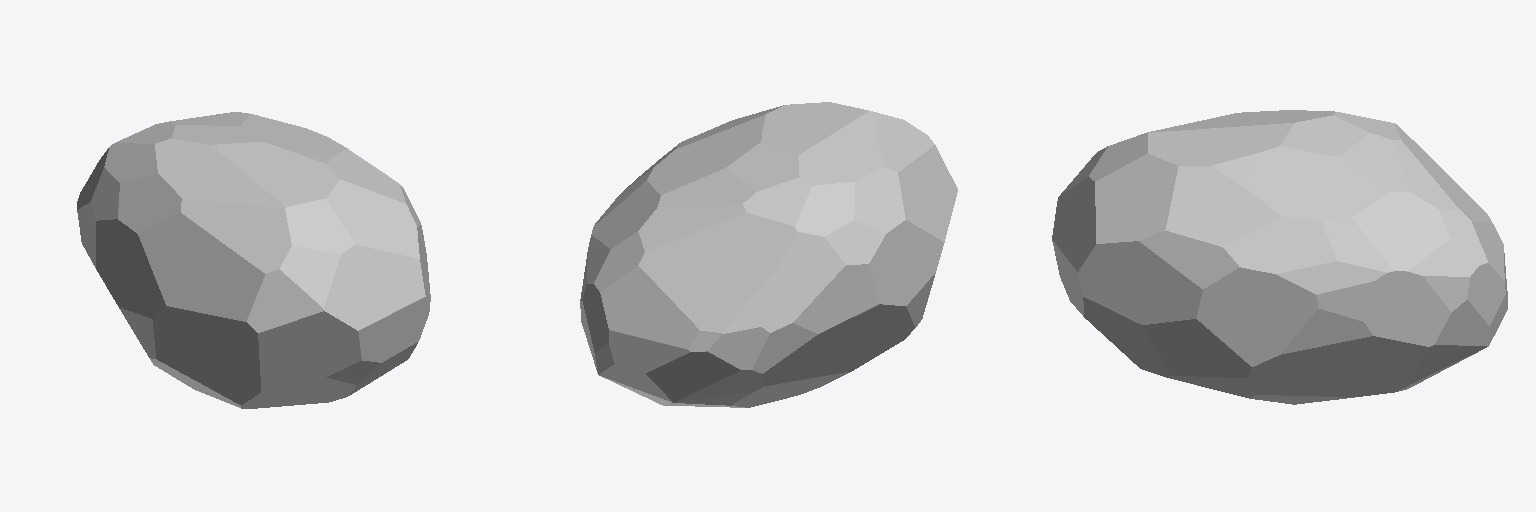
File: smallStone2.obj
The picture shows the model from 3 angles: view 1: azimuth 30°, elevation 25°; view 2: azimuth 150°, elevation 25°; view 3: azimuth 270°, elevation 25°; orthographic projection.
Visible parts, largest first — view 1: Icosphere_005; view 2: Icosphere_005; view 3: Icosphere_005.
Boxes of the visible parts, <box> form: Icosphere_005: <box>77,112,430,408</box>; Icosphere_005: <box>580,102,957,407</box>; Icosphere_005: <box>1052,110,1507,404</box>.
Size of the model in its own units: 45.75 by 36.41 by 65.5.